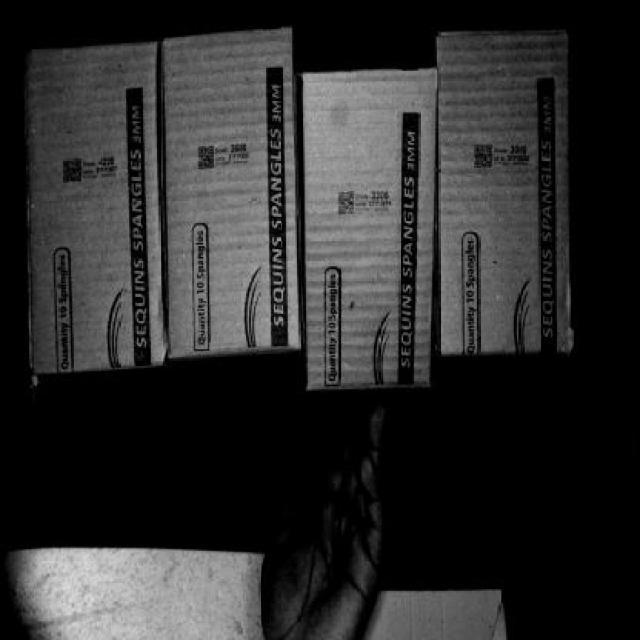box: (32, 43, 168, 369), (442, 34, 576, 352), (302, 74, 438, 377), (171, 40, 300, 354)
